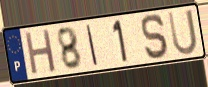1: (112, 19, 130, 64)
8: (57, 25, 83, 71)
H: (24, 28, 58, 77)
I: (85, 24, 99, 67)
S: (140, 12, 171, 60)
U: (166, 7, 199, 57)
